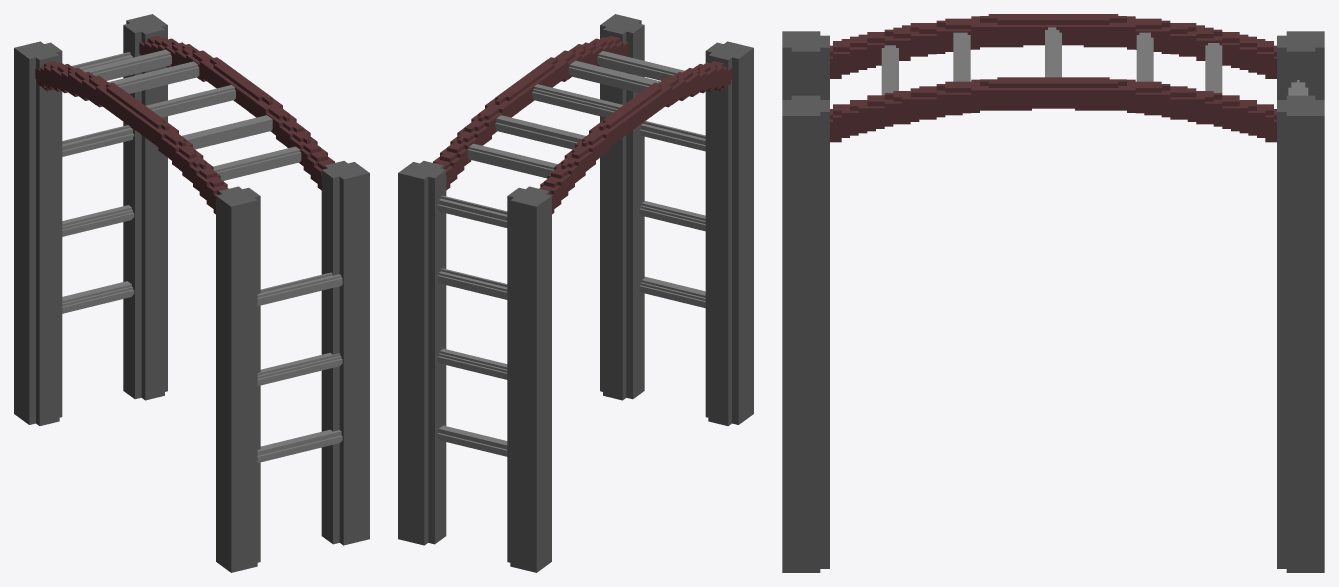
The model's file is furniture1.fbx.
3 renders of one model, left to right at view 1: azimuth 30°, elevation 25°; view 2: azimuth 150°, elevation 25°; view 3: azimuth 270°, elevation 25°, orthographic. The views are drawn at different scales.
Visible parts, largest first — view 1: Cylinder.040, Cylinder.041, Cylinder.019, Cylinder.042, Cylinder.031, Cylinder.026, Cylinder.030, Cylinder.028, Cylinder.032, Cylinder.029, Cylinder.037, Cylinder.036 (+5 smaller); view 2: Cylinder.042, Cylinder.019, Cylinder.040, Cylinder.041, Cylinder.031, Cylinder.026, Cylinder.033, Cylinder.032, Cylinder.027, Cylinder.028, Cylinder.030, Cylinder.034 (+6 smaller); view 3: Cylinder.041, Cylinder.042, Cylinder.026, Cylinder.031, Cylinder.019, Cylinder.040, Cylinder.028, Cylinder.032, Cylinder.033, Cylinder.030, Cylinder.027.
Boxes of the visible parts, x1,y1,x2,y2 form: Cylinder.040: (14,41,62,425); Cylinder.041: (321,161,369,545); Cylinder.019: (216,186,260,572); Cylinder.042: (123,14,167,400); Cylinder.031: (35,61,228,214); Cylinder.026: (139,35,334,190); Cylinder.030: (213,146,301,180); Cylinder.028: (182,115,272,149); Cylinder.032: (108,61,199,93); Cylinder.029: (257,272,342,305); Cylinder.037: (257,429,342,462); Cylinder.036: (257,353,342,385); Cylinder.042: (398,161,446,545); Cylinder.019: (705,41,753,425); Cylinder.040: (507,186,551,572); Cylinder.041: (600,14,644,400); Cylinder.031: (539,61,732,214); Cylinder.026: (433,35,628,190); Cylinder.033: (467,143,557,178); Cylinder.032: (495,115,585,149); Cylinder.027: (532,84,623,117); Cylinder.028: (568,60,660,92); Cylinder.030: (597,51,684,80); Cylinder.034: (437,195,507,227); Cylinder.041: (782,95,829,572); Cylinder.042: (1277,95,1324,572); Cylinder.026: (830,77,1276,142); Cylinder.031: (830,14,1276,78); Cylinder.019: (782,31,829,99); Cylinder.040: (1277,31,1324,99); Cylinder.028: (953,32,970,81); Cylinder.032: (1136,32,1153,81); Cylinder.033: (1205,43,1222,92); Cylinder.030: (881,45,898,95); Cylinder.027: (1045,27,1061,77).
Size of the model in its own units: 80.21 by 213 by 218.
